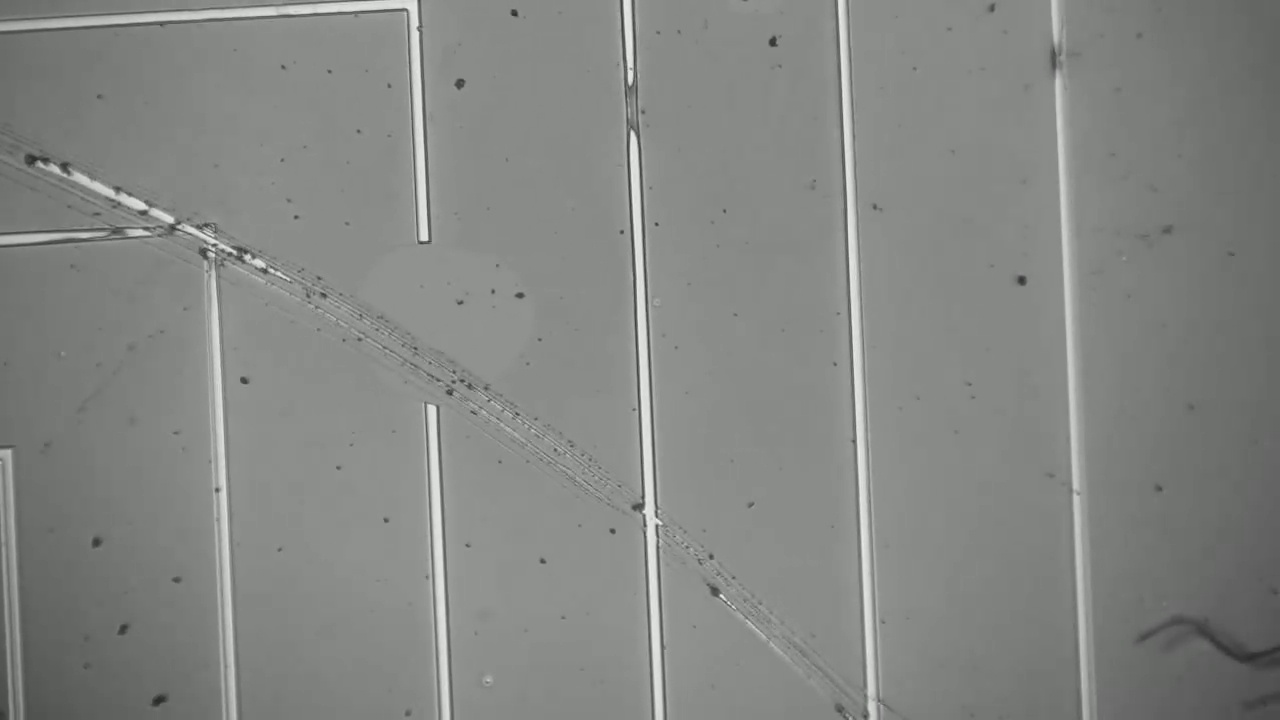gray_line: (611, 64, 649, 153), (1042, 28, 1067, 91)
open: (386, 201, 471, 457)
scratch: (268, 271, 870, 716), (0, 132, 265, 267)
